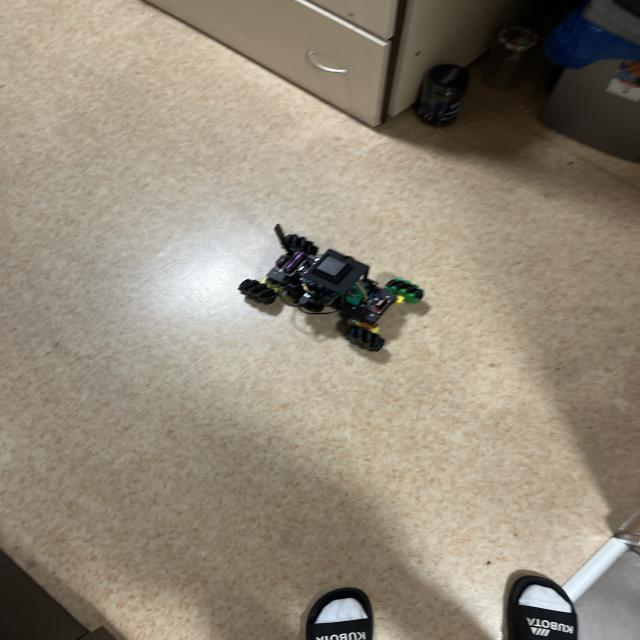robot: (239, 225, 424, 352)
